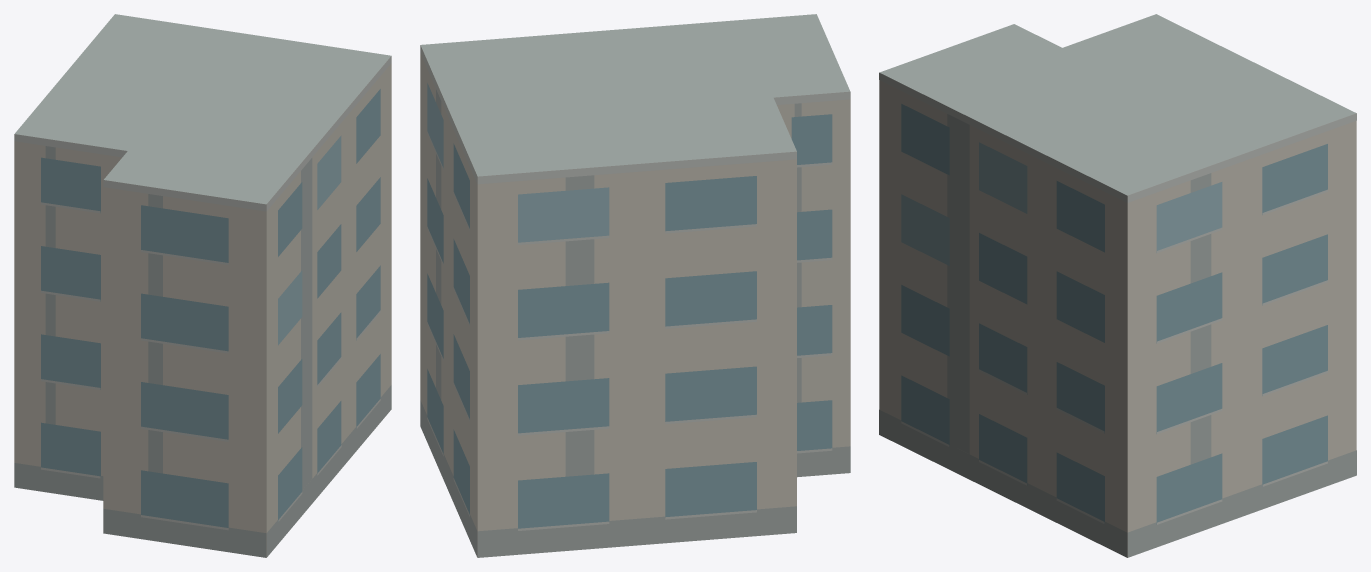
Rendered from residential-386ca356-522c-4b57-a999-10a45886d1e6.glb.
3 renders of one model, left to right at view 1: azimuth 30°, elevation 25°; view 2: azimuth 150°, elevation 25°; view 3: azimuth 270°, elevation 25°, orthographic. The views are drawn at different scales.
Visible parts, largest first — view 1: residential-386ca356-522c-4b57-a999-10a45886d1e6.tmp; view 2: residential-386ca356-522c-4b57-a999-10a45886d1e6.tmp; view 3: residential-386ca356-522c-4b57-a999-10a45886d1e6.tmp.
Boxes of the visible parts, x1=… form: residential-386ca356-522c-4b57-a999-10a45886d1e6.tmp: x1=14, y1=14, x2=391, y2=557; residential-386ca356-522c-4b57-a999-10a45886d1e6.tmp: x1=420, y1=14, x2=850, y2=557; residential-386ca356-522c-4b57-a999-10a45886d1e6.tmp: x1=879, y1=14, x2=1356, y2=557.
Size of the model in its own units: 12.8 by 11.9 by 14.22.
